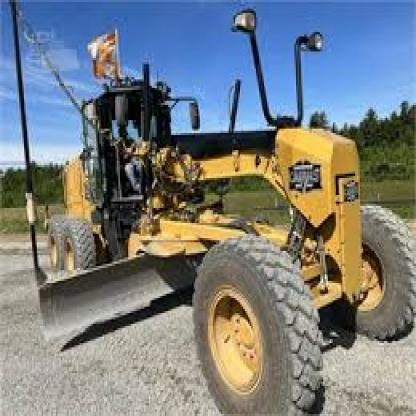bull_dozer/loader/grader: (16, 30, 411, 410)
